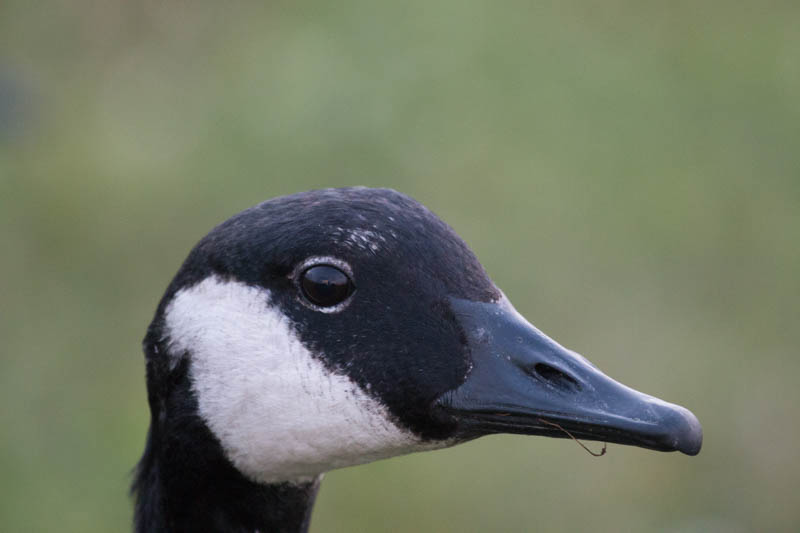goose-head: (144, 187, 703, 485)
